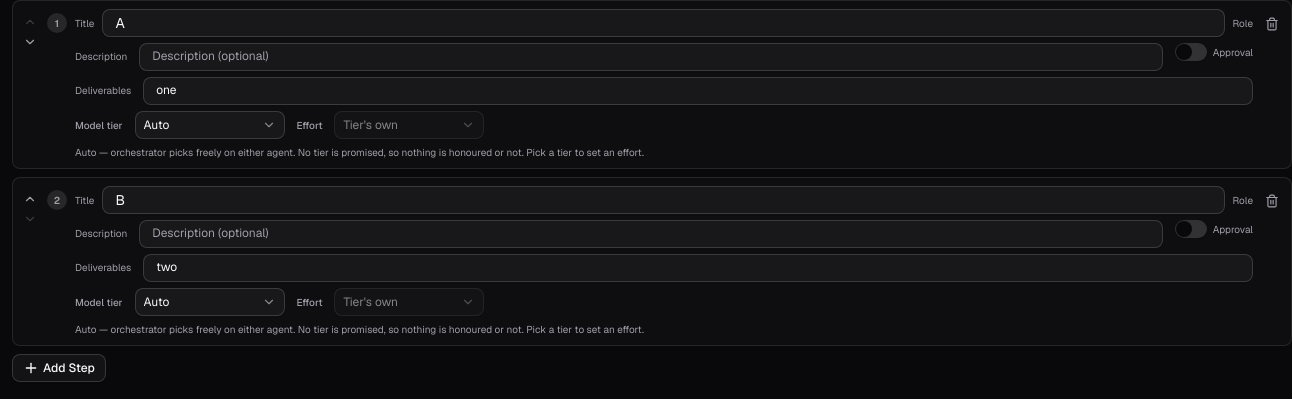
StepEditor deliverables box › removing a step shows the right text in the remaining box
Click the 2nd button at (1272, 24), box [1261,13,1283,35]
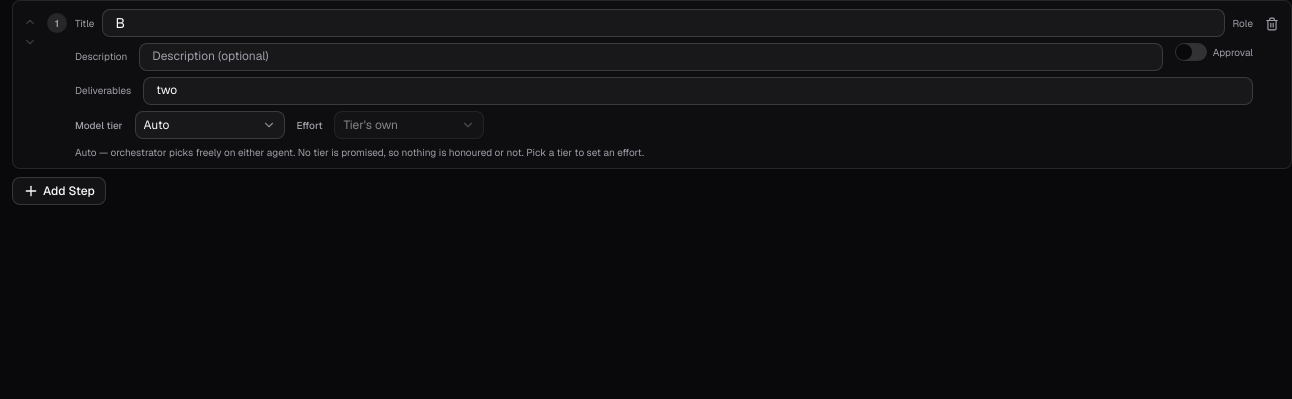
Expected: the field showing "one" is not shown
Expected: the text box showing "two" is shown, [143,77,1253,105]
